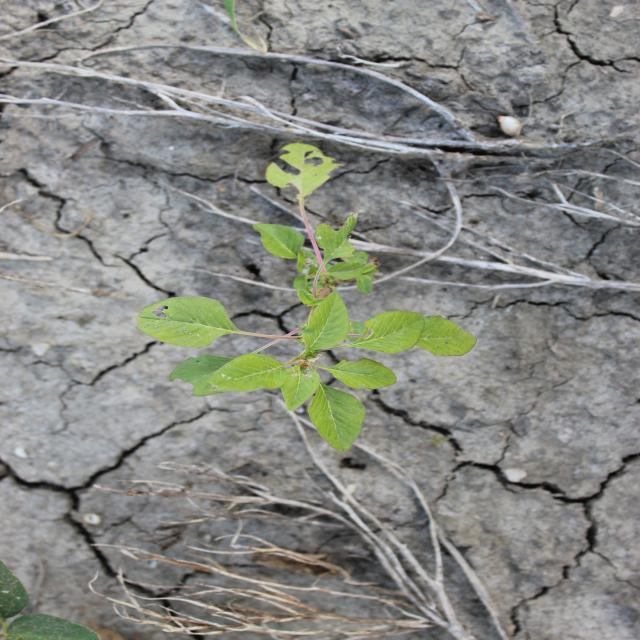PalmerAmaranth: (132, 142, 480, 456)
